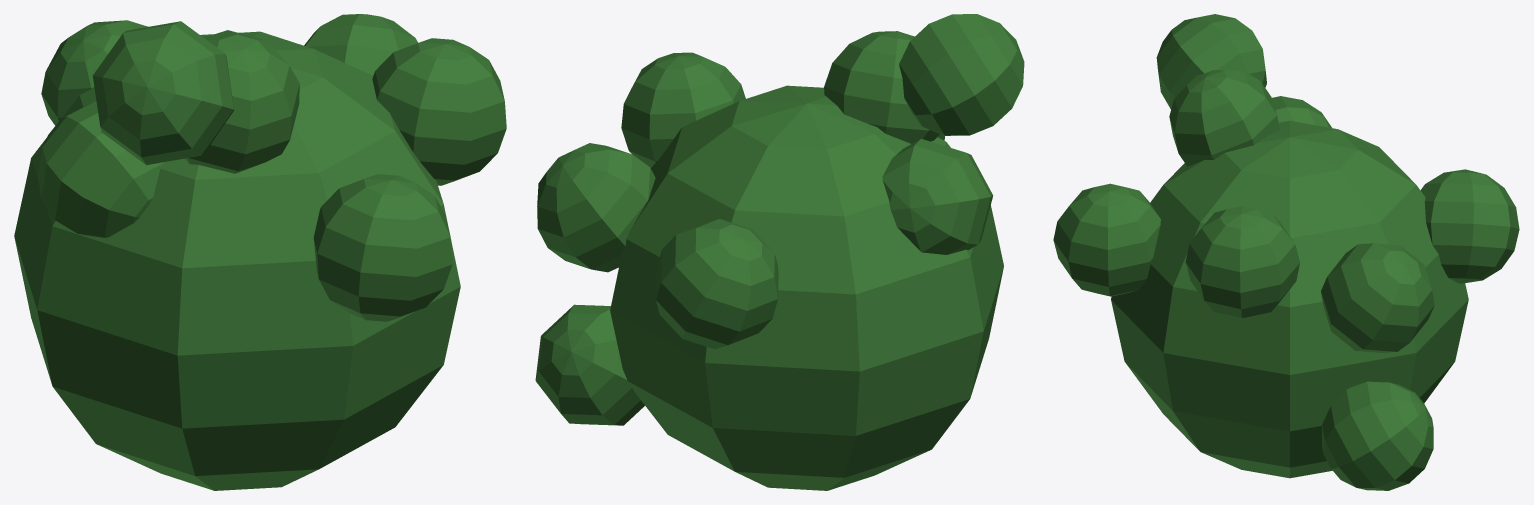
File: bush_extremely_detailed.fbx
3 renders of one model, left to right at view 1: azimuth 30°, elevation 25°; view 2: azimuth 150°, elevation 25°; view 3: azimuth 270°, elevation 25°, orthographic. The views are drawn at different scales.
Parts seen in each view (by area): view 1: polySurface988; view 2: polySurface988; view 3: polySurface988.
Boxes of the visible parts, x1,y1,x2,y2 form: polySurface988: (14,14,506,490); polySurface988: (535,14,1024,490); polySurface988: (1053,14,1519,490).
Size of the model in its own units: 32.48 by 35.8 by 38.22.
